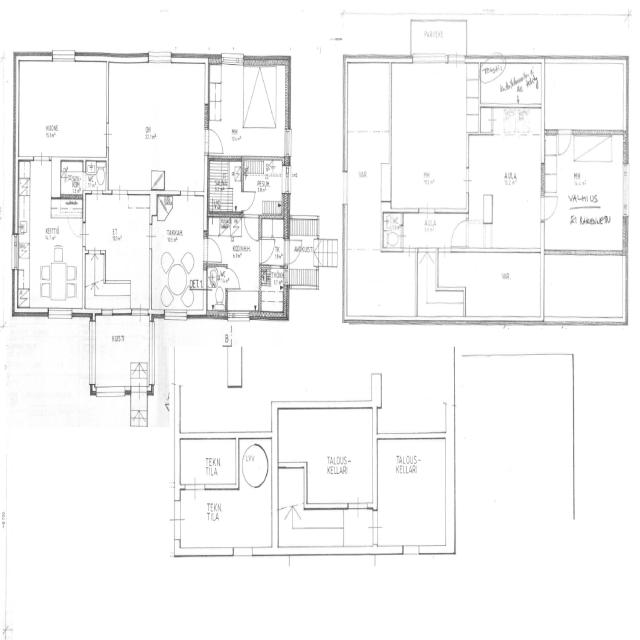door: (258, 226, 284, 268), (449, 216, 469, 251), (204, 124, 225, 157), (204, 234, 224, 266), (540, 192, 560, 222), (243, 212, 261, 243), (556, 128, 573, 159), (284, 238, 302, 266), (258, 237, 275, 266), (66, 214, 84, 240), (225, 265, 242, 292), (241, 187, 257, 212), (417, 248, 432, 268), (291, 503, 305, 524), (428, 248, 438, 268)
window: (411, 50, 454, 69), (88, 319, 98, 388), (620, 160, 631, 218), (95, 385, 126, 400), (147, 48, 174, 65), (227, 309, 255, 325), (51, 47, 77, 64), (340, 168, 350, 210), (283, 126, 294, 161), (47, 307, 74, 321), (282, 162, 292, 198), (10, 232, 19, 272), (220, 52, 245, 66), (231, 546, 255, 558), (294, 283, 318, 294)
zone: (472, 353, 579, 538), (106, 59, 208, 192), (389, 59, 473, 212), (542, 132, 628, 254), (16, 160, 84, 312), (277, 407, 376, 507), (15, 57, 109, 160), (468, 129, 543, 249), (375, 438, 448, 550), (85, 192, 152, 309), (208, 60, 289, 155), (448, 252, 543, 320), (152, 193, 207, 309), (542, 59, 628, 133), (544, 252, 628, 324), (345, 119, 390, 249), (91, 313, 151, 392), (200, 239, 260, 316), (206, 214, 261, 288), (478, 59, 541, 116), (345, 59, 391, 134), (179, 437, 238, 489), (243, 159, 287, 215), (401, 211, 463, 250), (207, 158, 244, 214), (55, 159, 106, 197), (258, 218, 286, 272), (259, 269, 287, 317), (206, 264, 228, 317), (225, 292, 259, 320), (382, 211, 404, 251)
